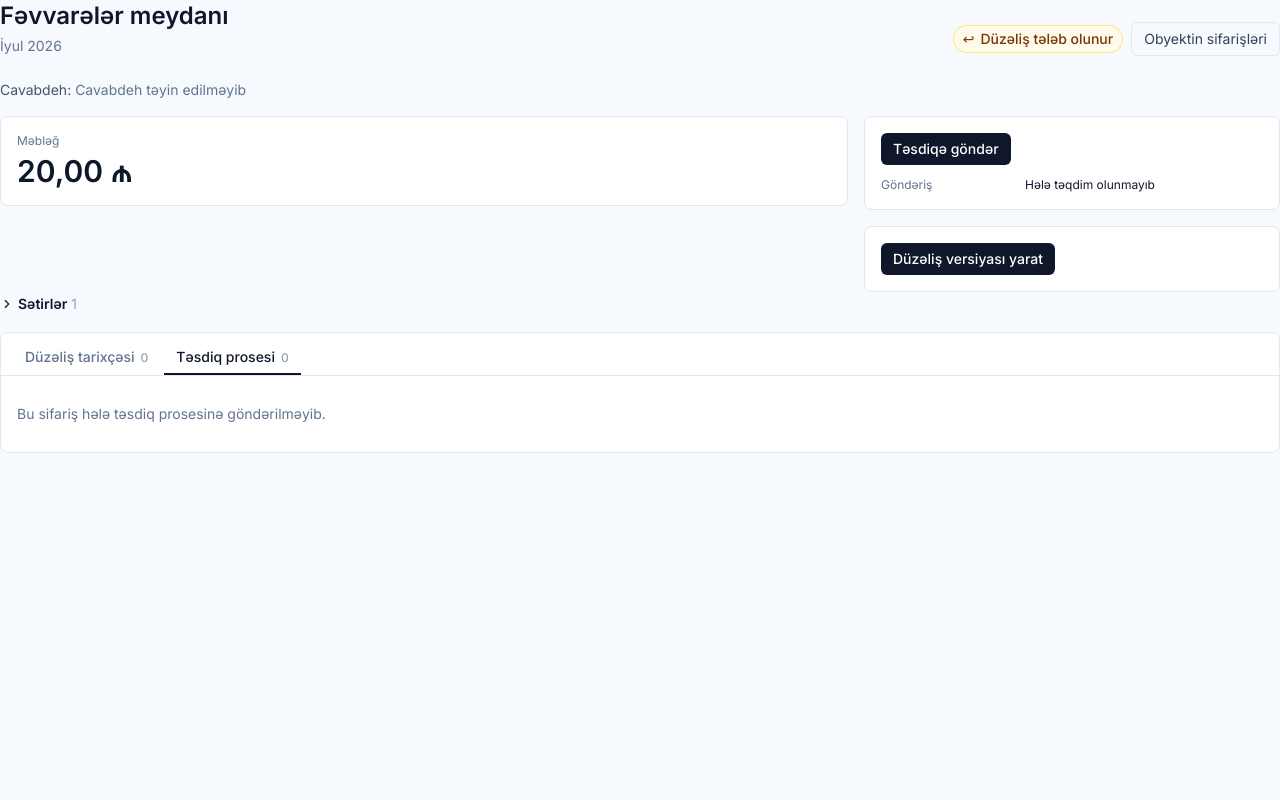
a returned order › offers the correction, and says what will and will not happen
Check: the heading "Fəvvarələr meydanı" is shown, box [0,0,229,32]
Click the button "Düzəliş versiyası yarat".
click(968, 259)  # box [881,243,1055,275]
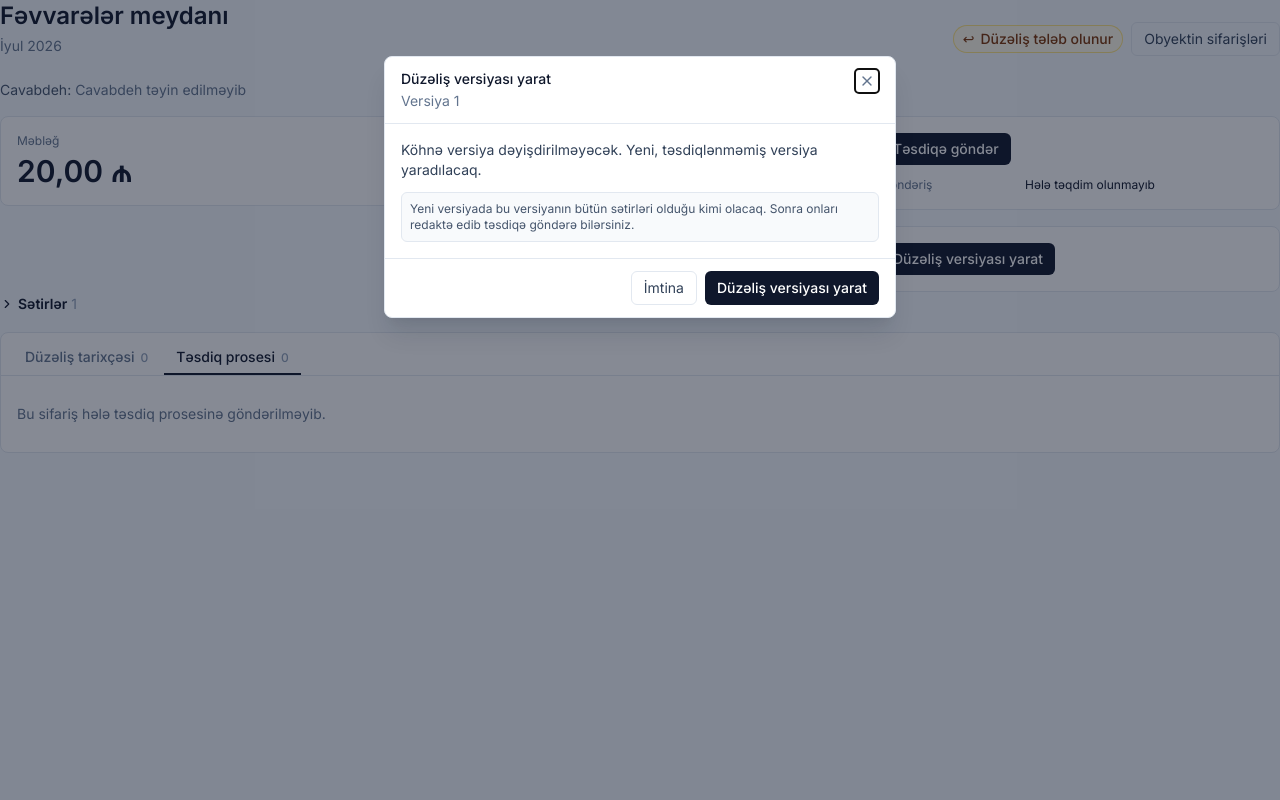
Check: the text "Yeni, təsdiqlənməmiş versiya yaradılacaq" is shown, box [401,141,818,178]
